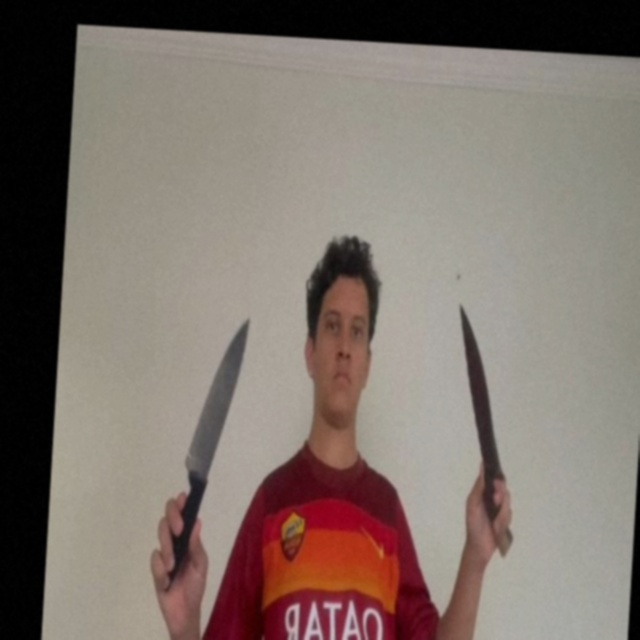Sharp-Object: (450, 300, 511, 475), (185, 312, 250, 472)
